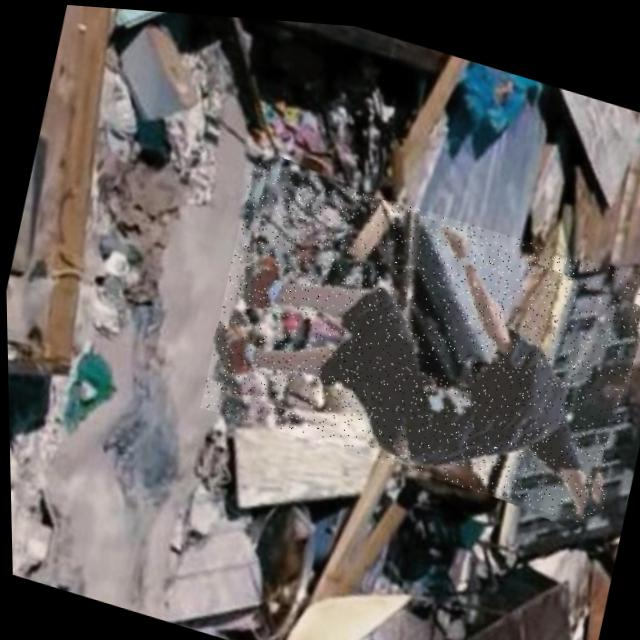Person in Rubble: (192, 150, 640, 521)
